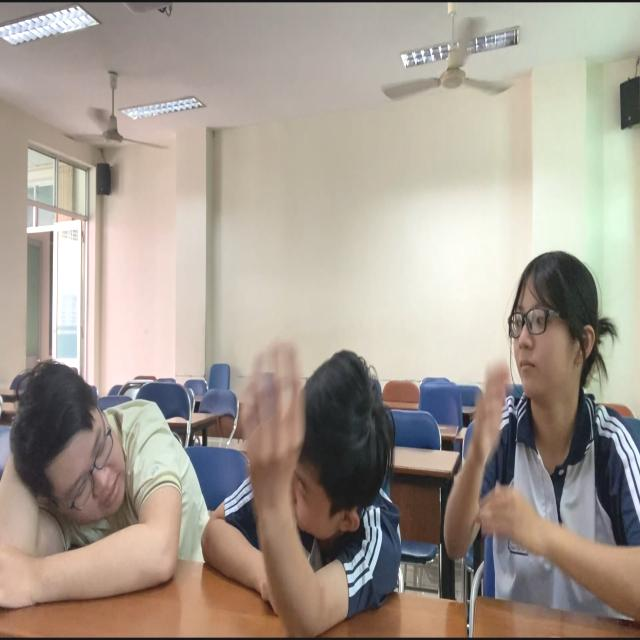sleep: (205, 330, 400, 618), (1, 351, 198, 605)
